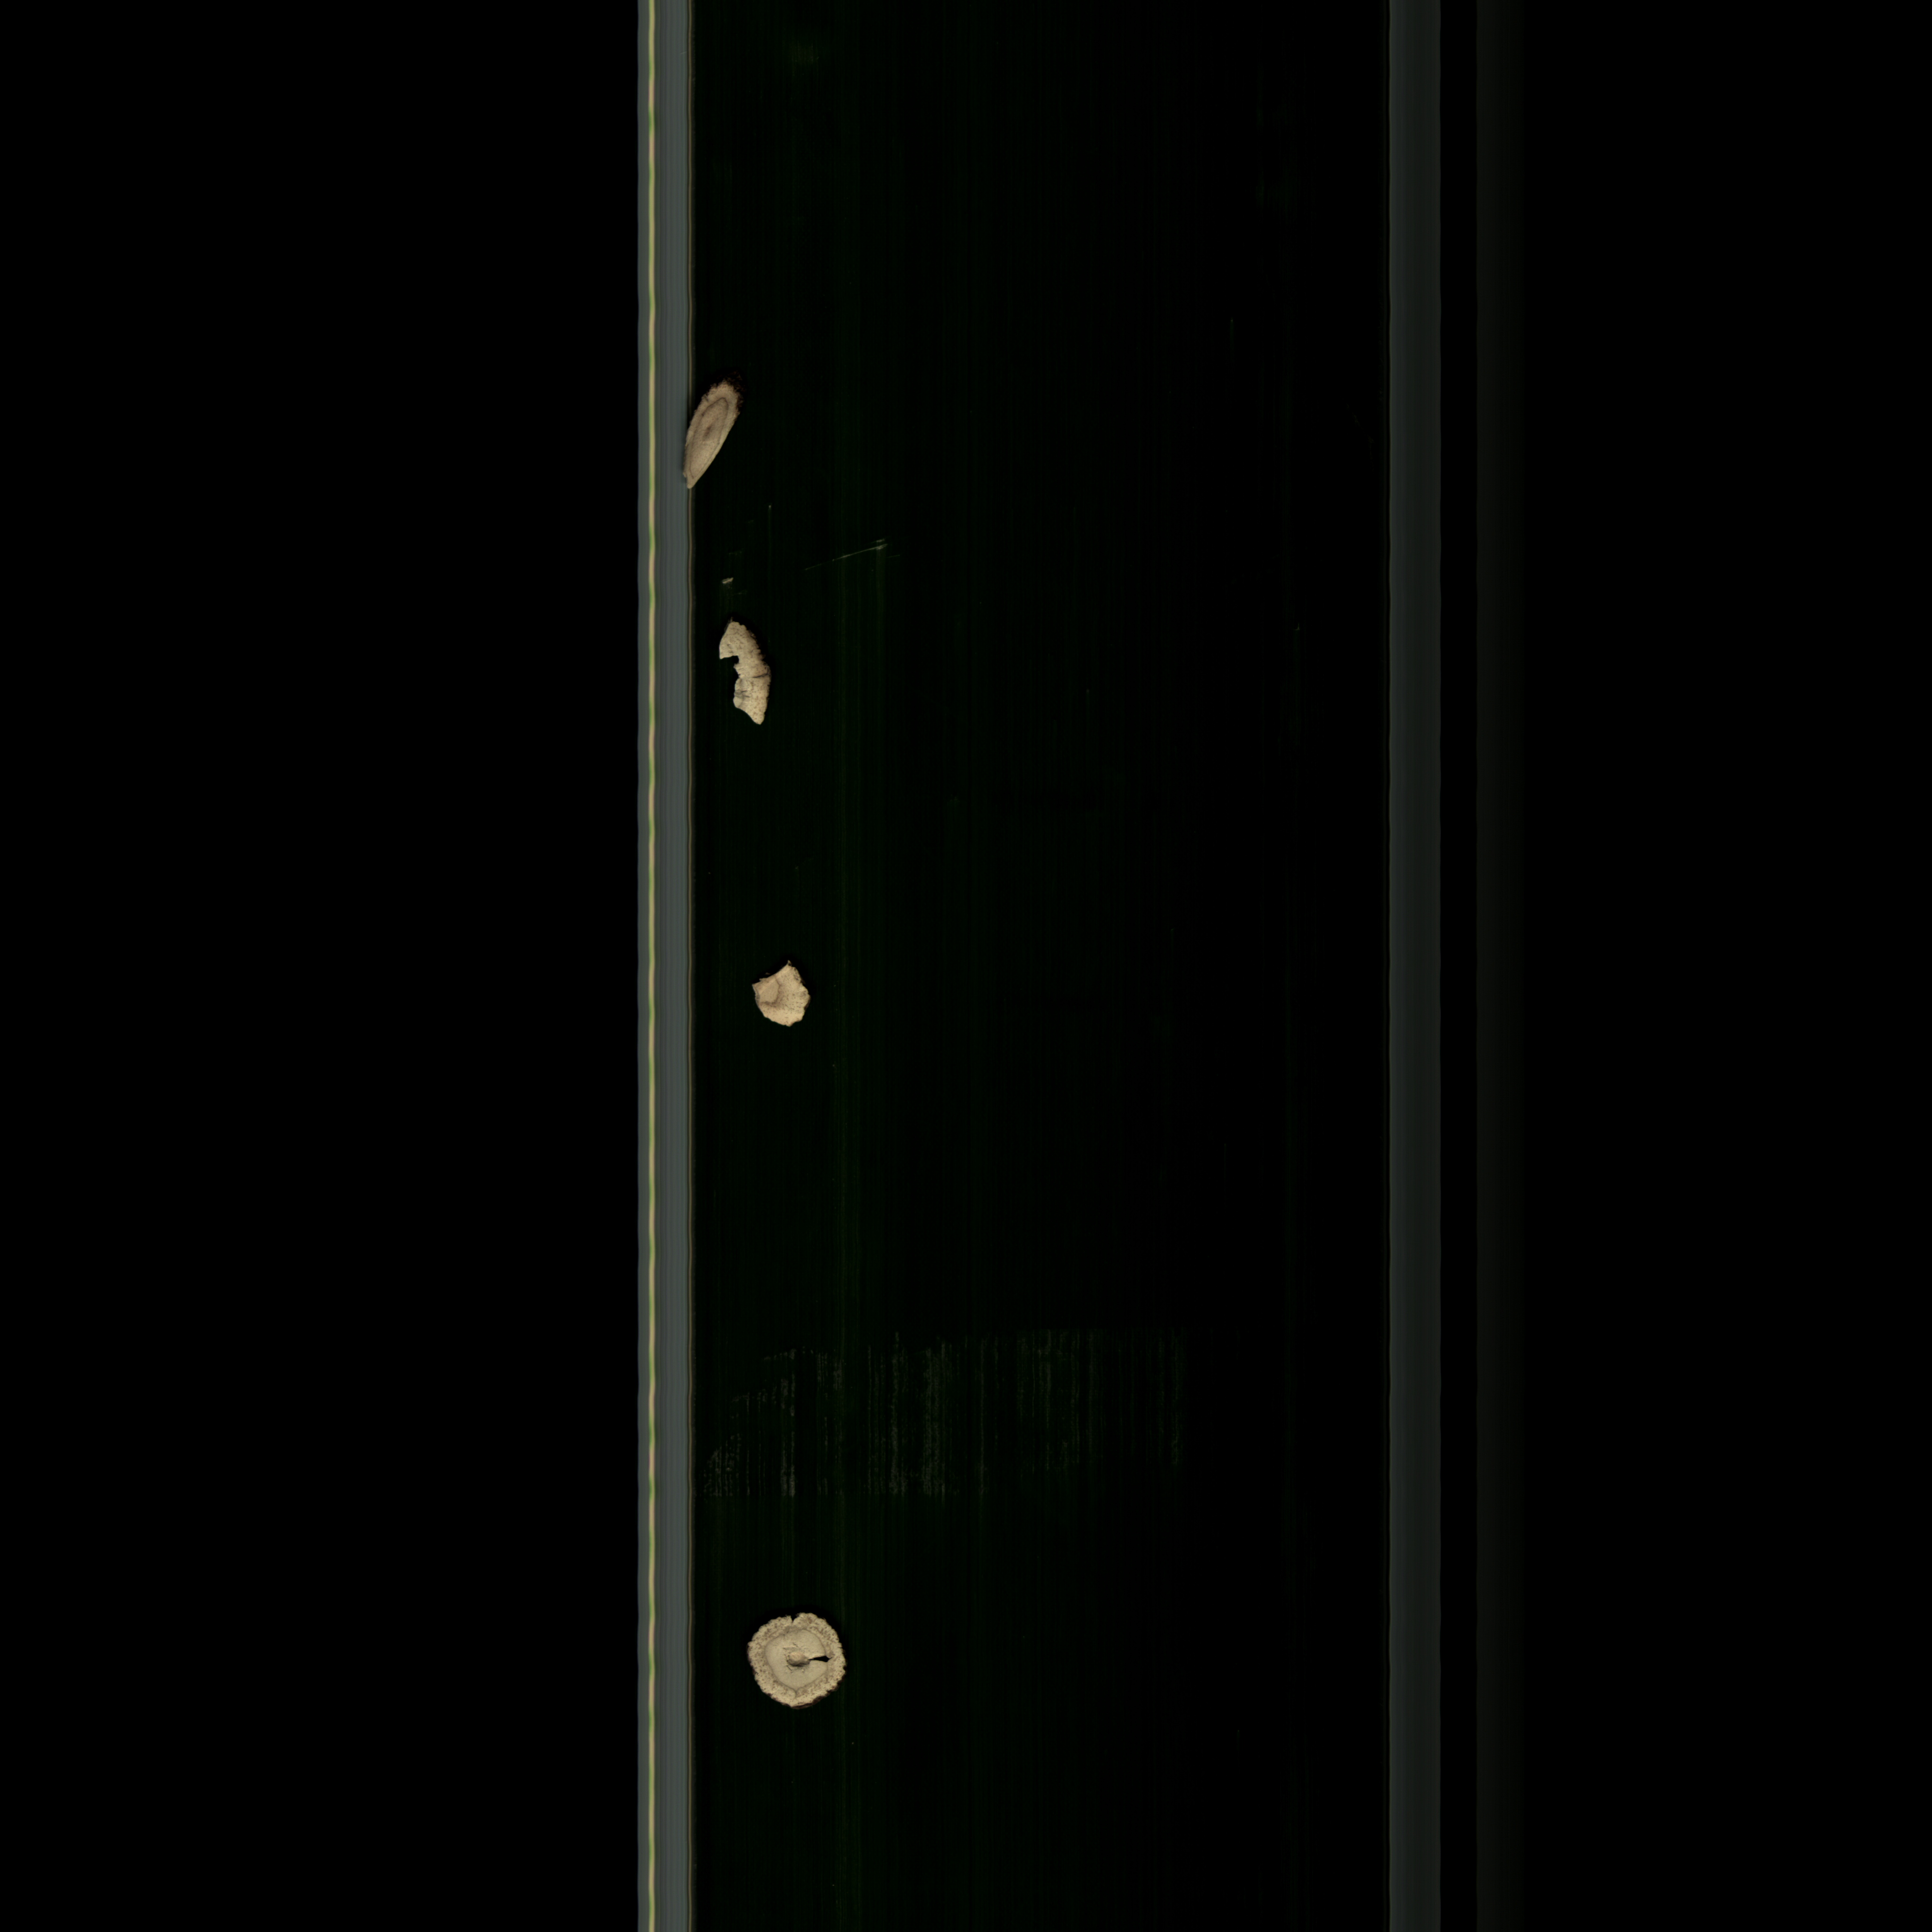debris: (711, 619, 778, 731), (747, 957, 816, 1037)
dreg: (713, 573, 750, 591)
hole: (736, 1610, 865, 1713)
moldy: (678, 377, 748, 494)
